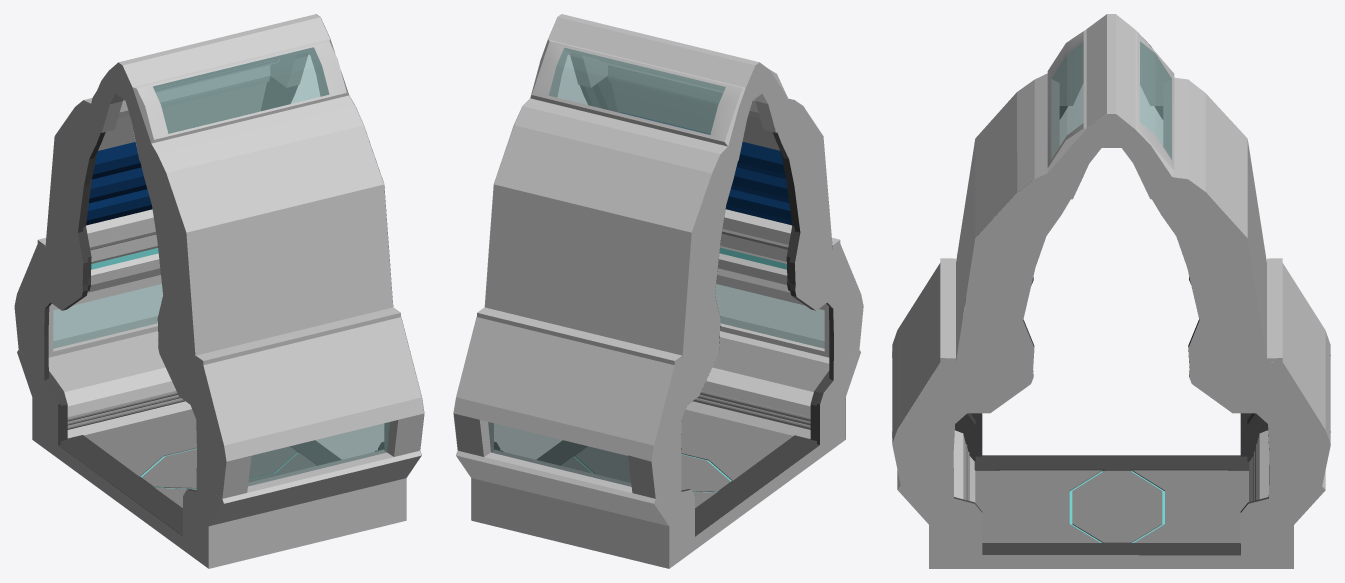
File: Hallway_A_Tall.fbx
3 renders of one model, left to right at view 1: azimuth 30°, elevation 25°; view 2: azimuth 150°, elevation 25°; view 3: azimuth 270°, elevation 25°, orthographic. The views are drawn at different scales.
Parts seen in each view (by area): view 1: polySurface112, Hallway_Fill_A2, polySurface95, FloorHallway14, polySurface103, polySurface109, polySurface86, polySurface111, polySurface110, polySurface94, polySurface108, polySurface98 (+2 smaller); view 2: polySurface112, Hallway_Fill_A2, polySurface86, FloorHallway14, polySurface103, polySurface105, polySurface95, polySurface107, polySurface106, polySurface85, polySurface104, polySurface89 (+2 smaller); view 3: Hallway_Fill_A3, polySurface112, FloorHallway14, polySurface103, polySurface86, polySurface95, polySurface85, polySurface94.
Part boxes in pixels (<box>): polySurface112: <box>14,14,424,568</box>; Hallway_Fill_A2: <box>14,62,226,568</box>; polySurface95: <box>48,259,191,438</box>; FloorHallway14: <box>58,409,341,536</box>; polySurface103: <box>101,47,329,144</box>; polySurface109: <box>86,76,269,275</box>; polySurface86: <box>248,422,389,486</box>; polySurface111: <box>86,142,152,225</box>; polySurface110: <box>78,132,105,291</box>; polySurface94: <box>44,285,90,444</box>; polySurface108: <box>261,76,298,110</box>; polySurface98: <box>67,398,184,429</box>; polySurface112: <box>453,14,863,568</box>; Hallway_Fill_A2: <box>651,62,863,568</box>; polySurface86: <box>686,259,829,438</box>; FloorHallway14: <box>537,409,819,536</box>; polySurface103: <box>549,48,775,134</box>; polySurface105: <box>608,76,791,275</box>; polySurface95: <box>488,422,631,486</box>; polySurface107: <box>621,112,791,225</box>; polySurface106: <box>772,132,800,291</box>; polySurface85: <box>787,285,833,444</box>; polySurface104: <box>580,76,621,112</box>; polySurface89: <box>693,398,810,429</box>; Hallway_Fill_A3: <box>892,114,1330,568</box>; polySurface112: <box>892,14,1330,523</box>; FloorHallway14: <box>974,455,1249,555</box>; polySurface103: <box>1046,42,1182,189</box>; polySurface86: <box>910,306,975,502</box>; polySurface95: <box>1249,362,1272,501</box>; polySurface85: <box>955,280,1033,461</box>; polySurface94: <box>1189,280,1267,461</box>.
Size of the model in its own units: 3.01 by 5.58 by 6.38.
